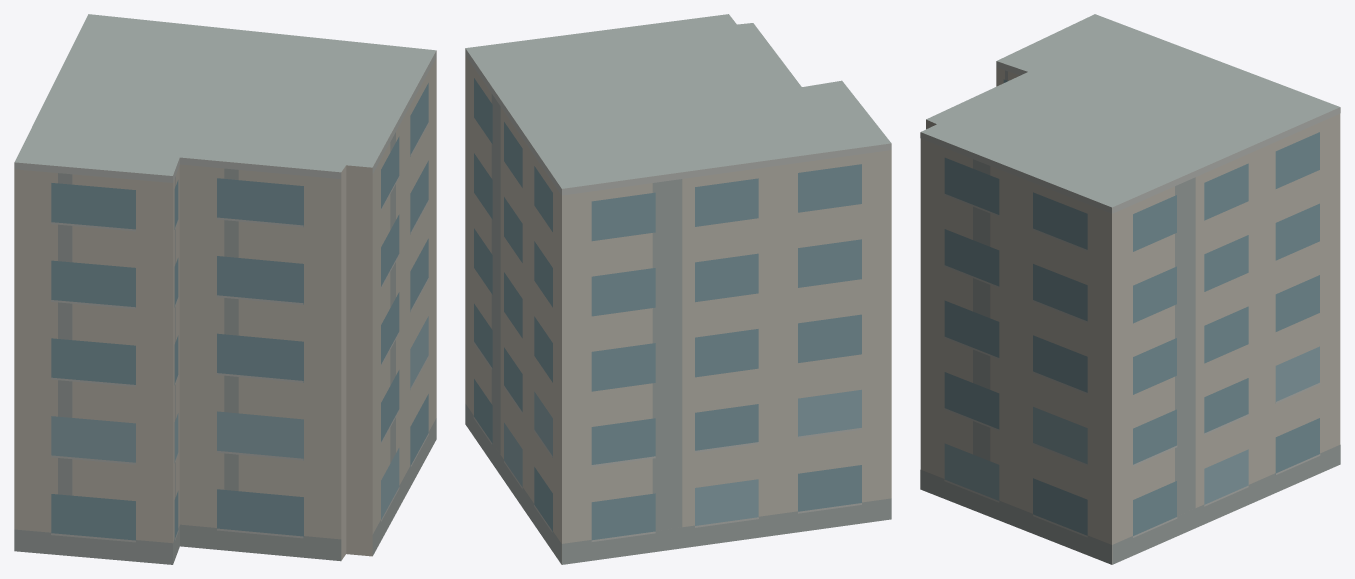
Rendered from survey-upis-32892498.glb.
3 renders of one model, left to right at view 1: azimuth 30°, elevation 25°; view 2: azimuth 150°, elevation 25°; view 3: azimuth 270°, elevation 25°, orthographic. The views are drawn at different scales.
Parts seen in each view (by area): view 1: survey-upis-32892498.tmp; view 2: survey-upis-32892498.tmp; view 3: survey-upis-32892498.tmp.
Boxes of the visible parts, bbox=[...] form: survey-upis-32892498.tmp: bbox=[14, 14, 436, 564]; survey-upis-32892498.tmp: bbox=[465, 14, 891, 564]; survey-upis-32892498.tmp: bbox=[920, 14, 1340, 564].
Size of the model in its own units: 15.86 by 13.65 by 14.54.
